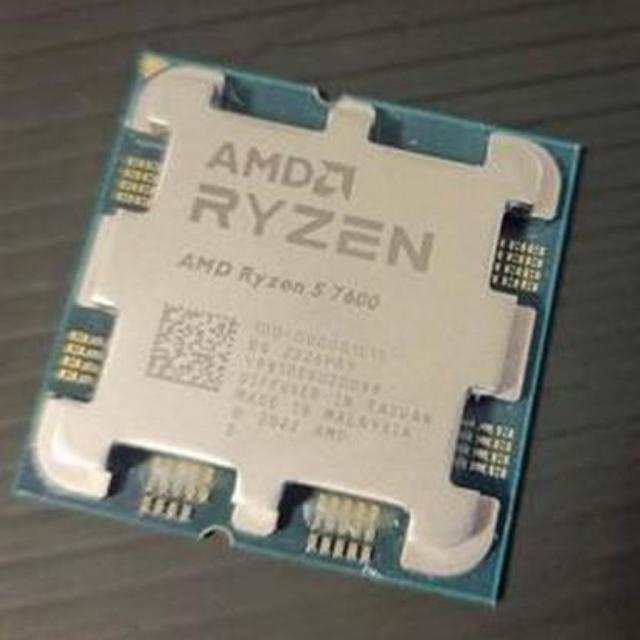CPU: (17, 54, 566, 603)
